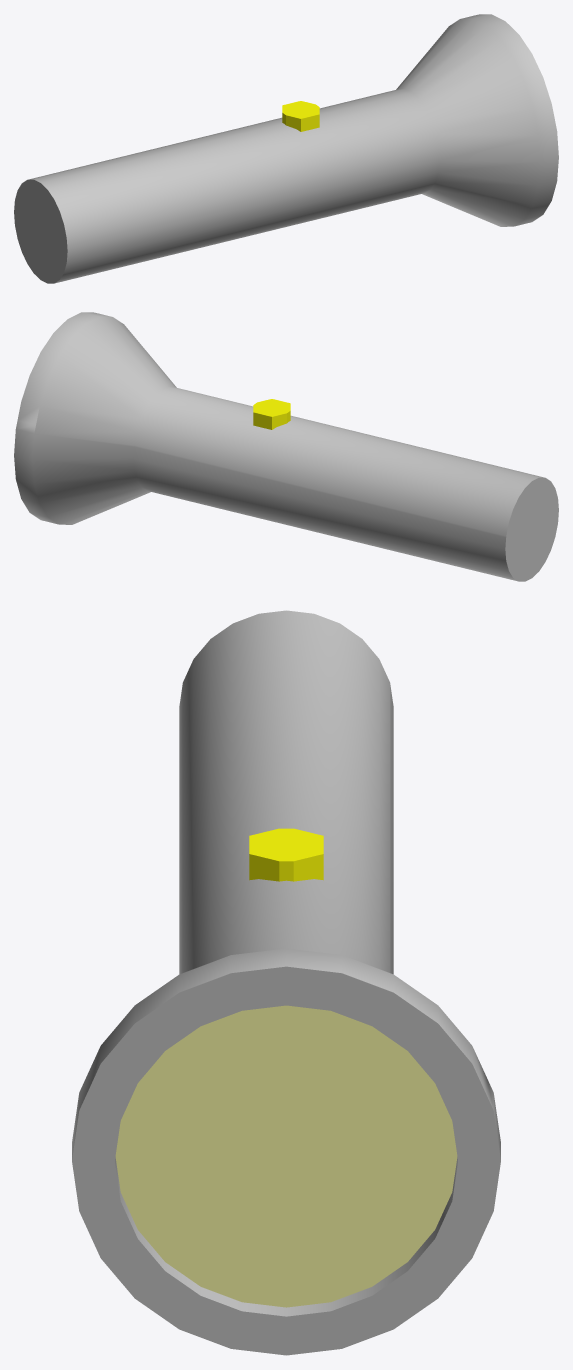
Rendered from Lanterna.fbx.
The picture shows the model from 3 angles, top to bottom: view 1: azimuth 30°, elevation 25°; view 2: azimuth 150°, elevation 25°; view 3: azimuth 270°, elevation 25°; orthographic projection. The views are drawn at different scales.
Visible parts, largest first — view 1: Lanterna; view 2: Lanterna; view 3: Lanterna.
Boxes of the visible parts, x1,y1,x2,y2 form: Lanterna: (14, 14, 558, 283); Lanterna: (14, 312, 558, 581); Lanterna: (72, 610, 500, 1355).
Bounding box in the file's own units: 50 × 20 × 20.
